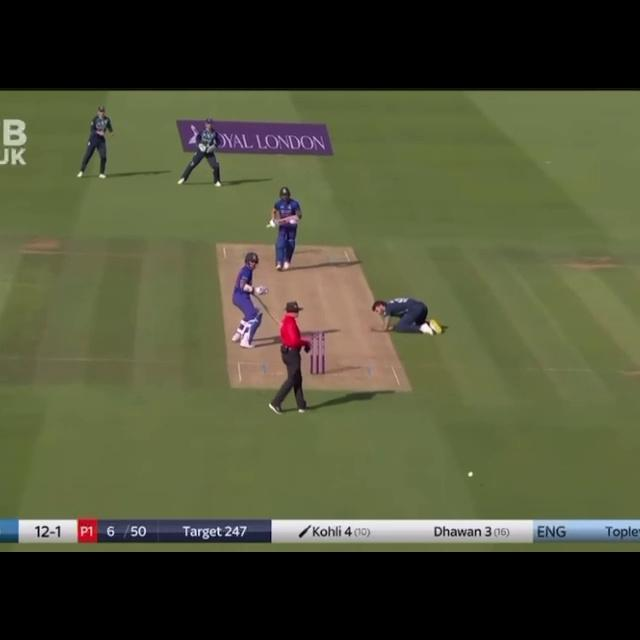umpire: (256, 291, 313, 415)
